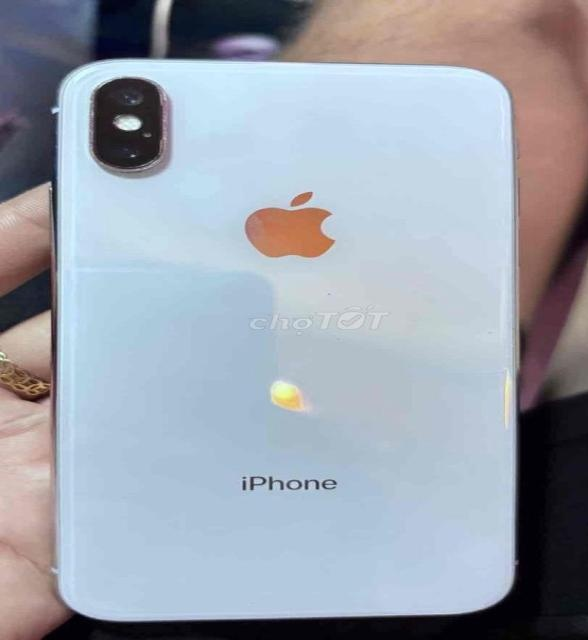scratch: (78, 65, 199, 184), (462, 302, 526, 354), (306, 281, 345, 310)
